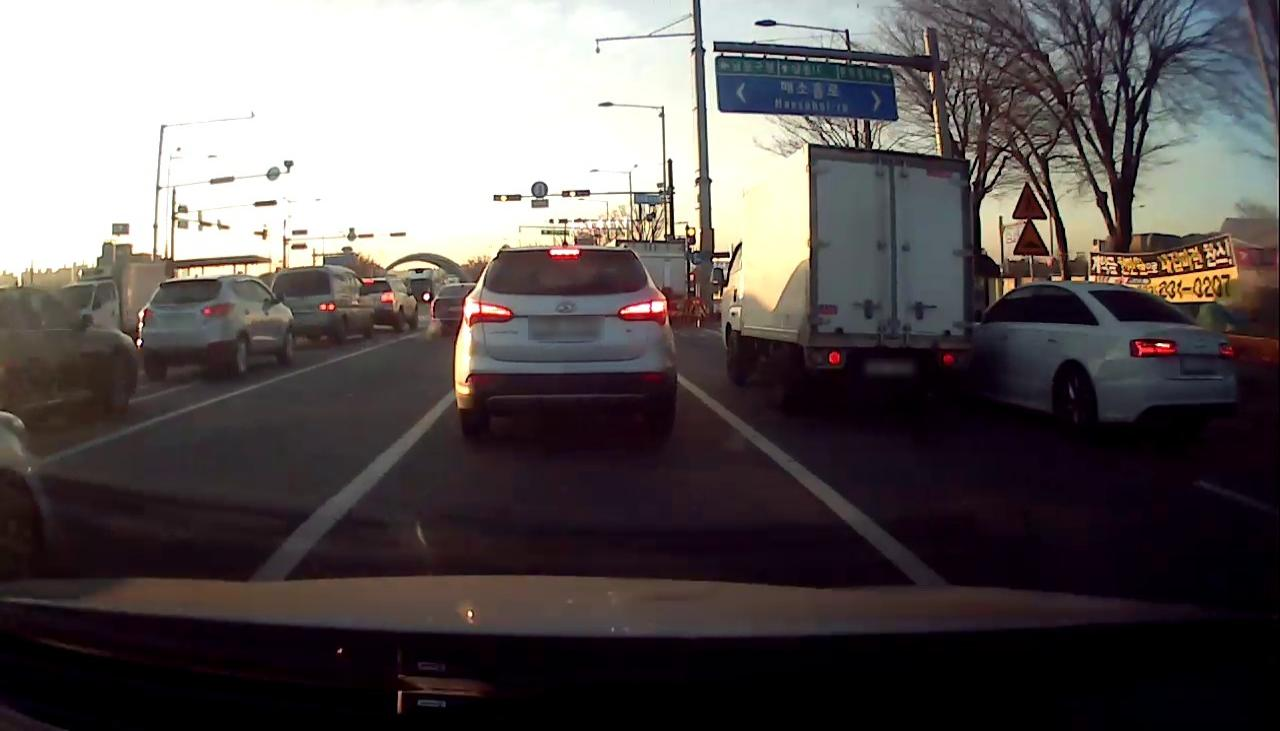Yellow Light: (500, 194, 508, 202), (568, 189, 576, 197)
